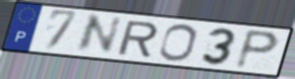3: (201, 26, 238, 67)
7: (39, 8, 80, 53)
N: (72, 14, 125, 55)
O: (157, 23, 199, 63)
P: (232, 27, 282, 71)
R: (115, 20, 160, 58)
